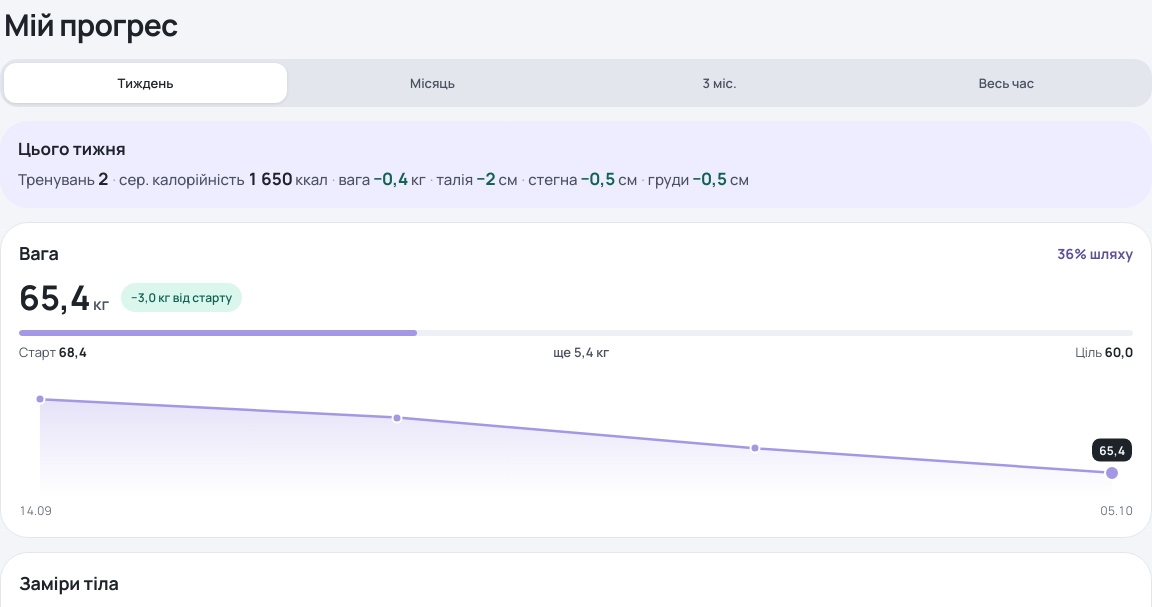
Test: ProgressView — «Б · Ж · В» › the caption follows the period
Click the radio button labelled "Весь час" at (1006, 83), box top-left (865, 63), bottom-right (1148, 103)
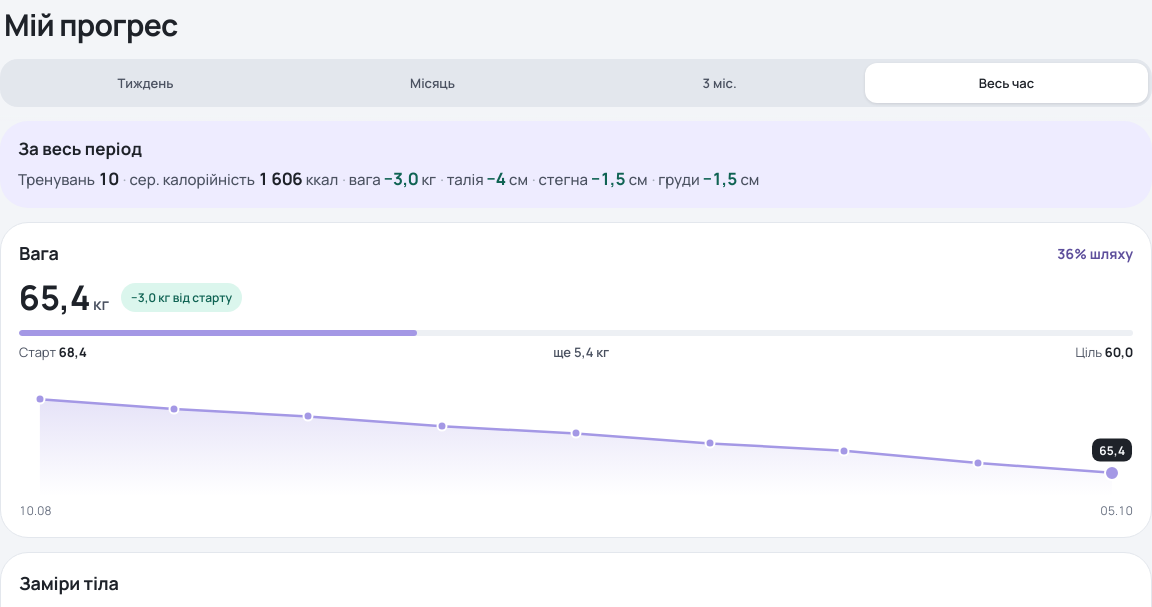
Click the radio button labelled "Місяць" at (432, 83), box top-left (291, 63), bottom-right (574, 103)
(page scrolled)
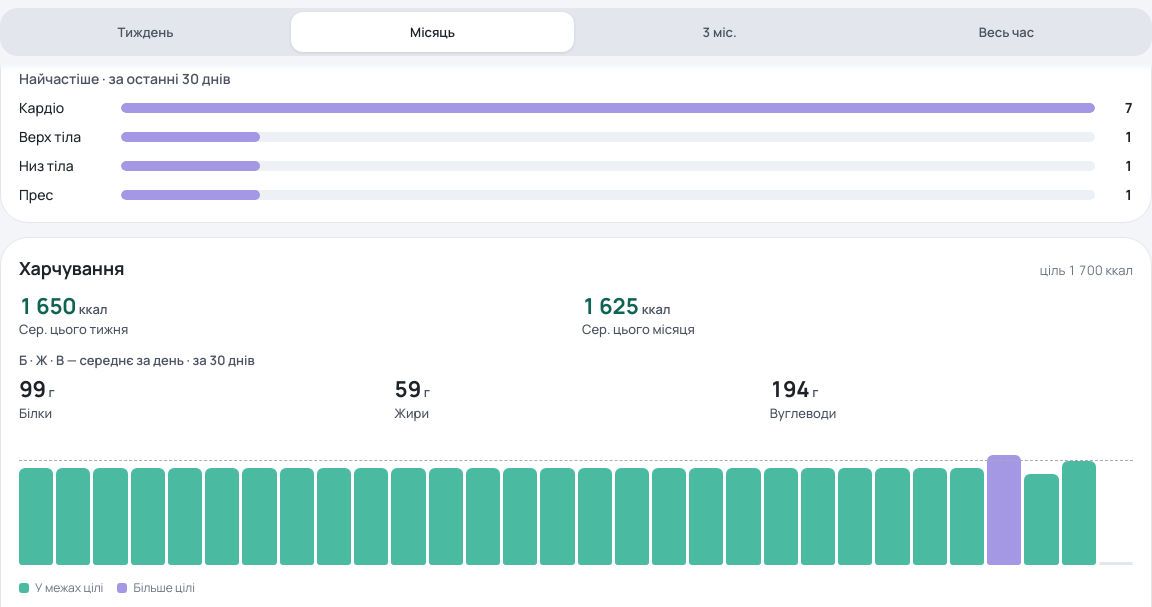
Expected: the text "Б · Ж · В — середнє за день · за 30 днів" is shown, top-left (19, 351), bottom-right (255, 369)
